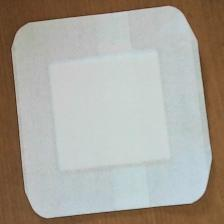Dressing: (12, 5, 216, 221)
